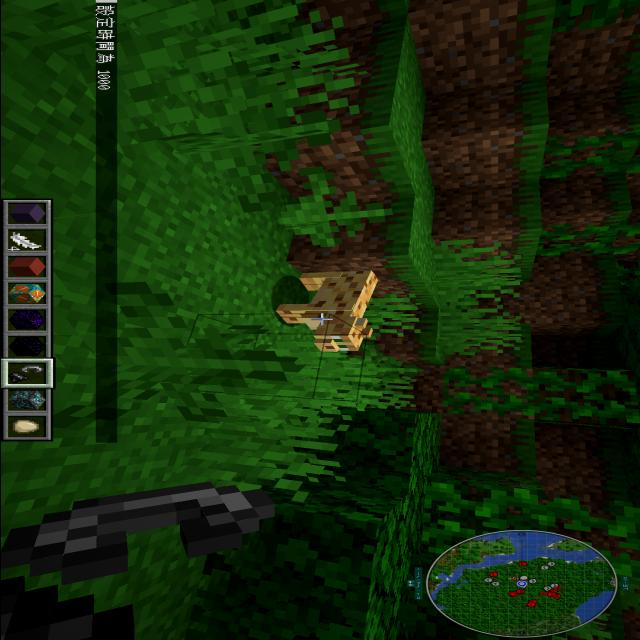Ocelot: (258, 256, 384, 360)
